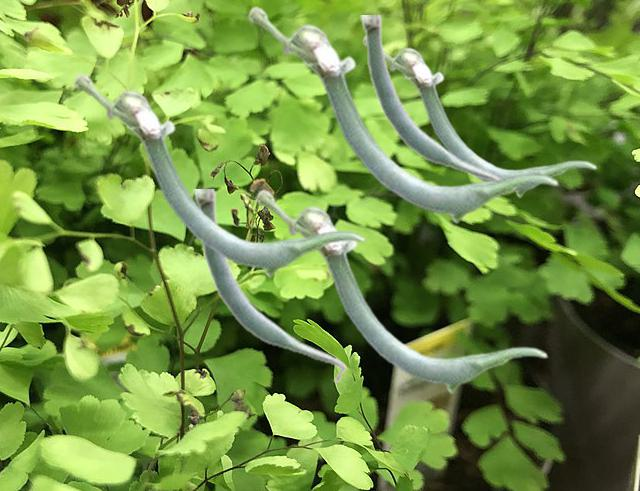french_bean: (247, 5, 558, 223), (255, 188, 547, 393), (73, 72, 365, 277), (362, 35, 596, 197), (193, 189, 346, 383), (360, 15, 502, 199)
